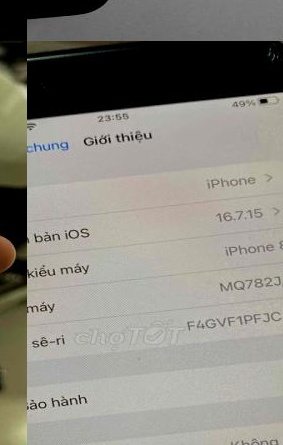physical_damage: (231, 41, 283, 80)
